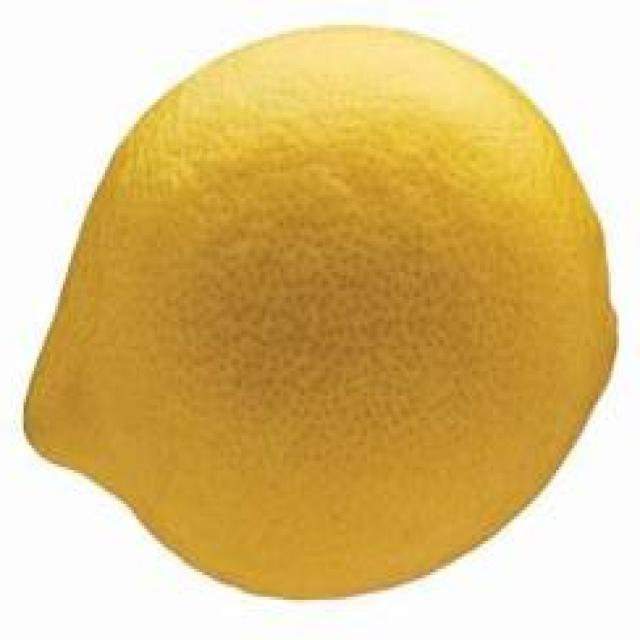Lemon: (8, 9, 627, 612)
